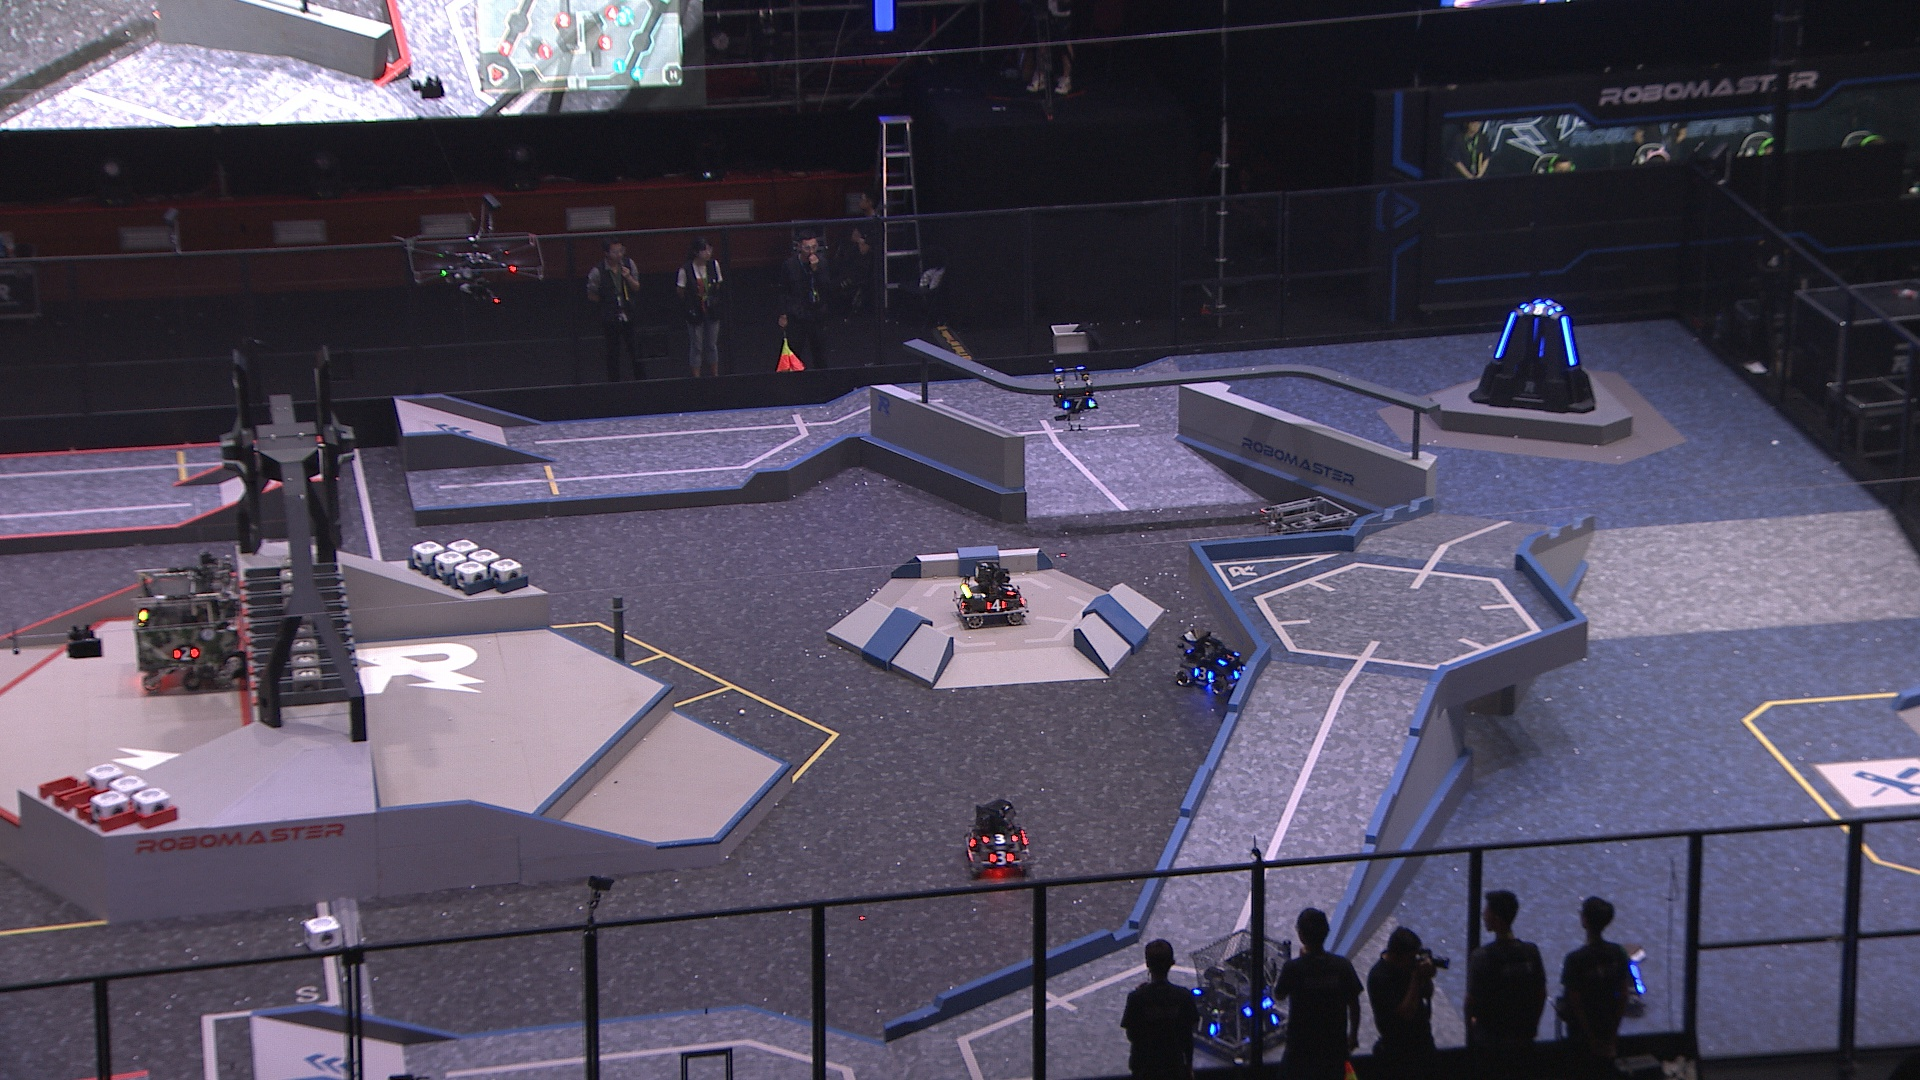armor: (1490, 310, 1518, 361), (1560, 315, 1582, 367), (978, 832, 1021, 849), (1520, 301, 1560, 318), (1189, 1015, 1218, 1038), (171, 645, 200, 665), (986, 847, 1015, 866), (1060, 396, 1096, 411), (1218, 650, 1244, 670), (1191, 666, 1216, 683), (984, 597, 1007, 615), (1543, 297, 1565, 314), (965, 827, 981, 851), (1258, 1014, 1278, 1033), (953, 595, 968, 615), (998, 582, 1015, 597)
base: (1472, 291, 1596, 415)
car: (1164, 924, 1302, 1062), (131, 553, 247, 695), (1250, 495, 1365, 604), (1560, 944, 1651, 1022), (1174, 624, 1261, 698), (960, 793, 1033, 880), (949, 556, 1030, 633)
watcher: (1046, 360, 1101, 431)
